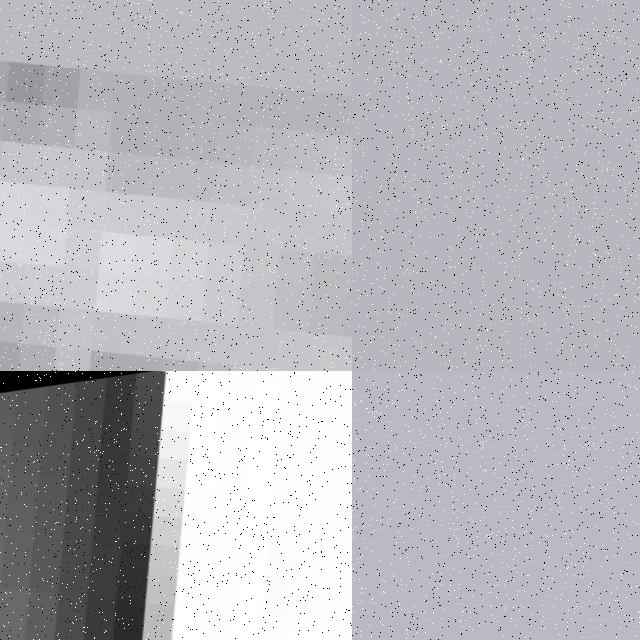drone: (0, 0, 352, 371), (0, 371, 352, 640)
